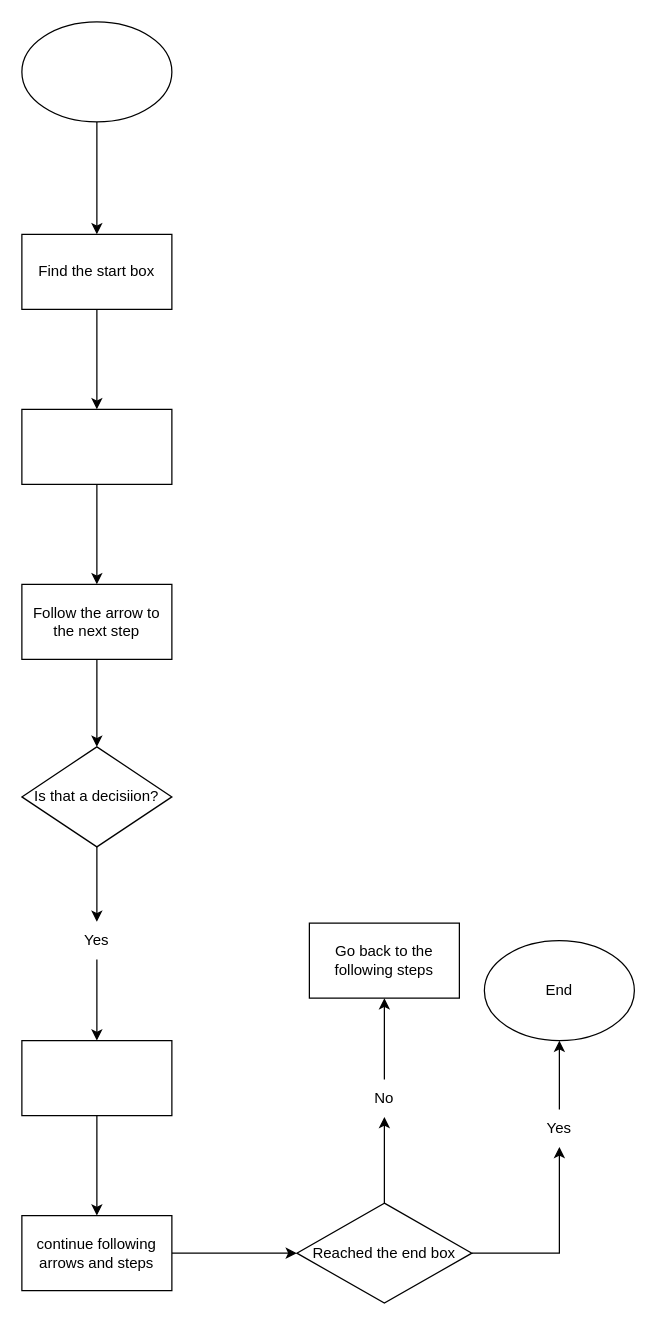
The diagram is 656 pixels wide and 1325 high, and some of its shapes have lost their labels. The shapes that lost their labels are listed below. From the top down, each one's centre as x and y in pixels, then its label:
At [96,71]: "Start".
At [96,446]: "Read the instructions inside the shape".
At [96,1077]: "Choose next path based on yes or no answer".
